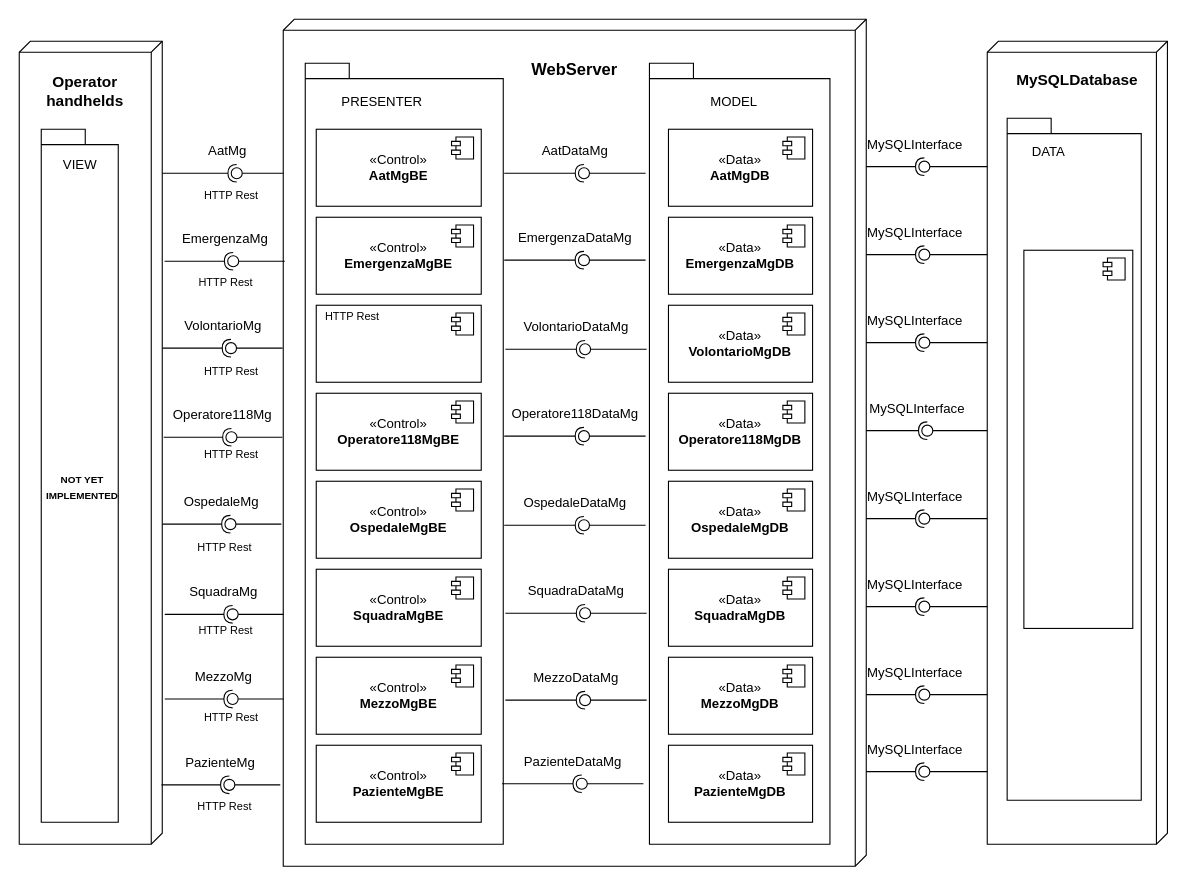
Image size: 1187x886. Some labels were removed from this diagram. Each missing label, with the box of its shape:
«Component» Database: (1023, 249, 1133, 628)
«Control» VolontarioMgBE: (315, 304, 481, 382)
